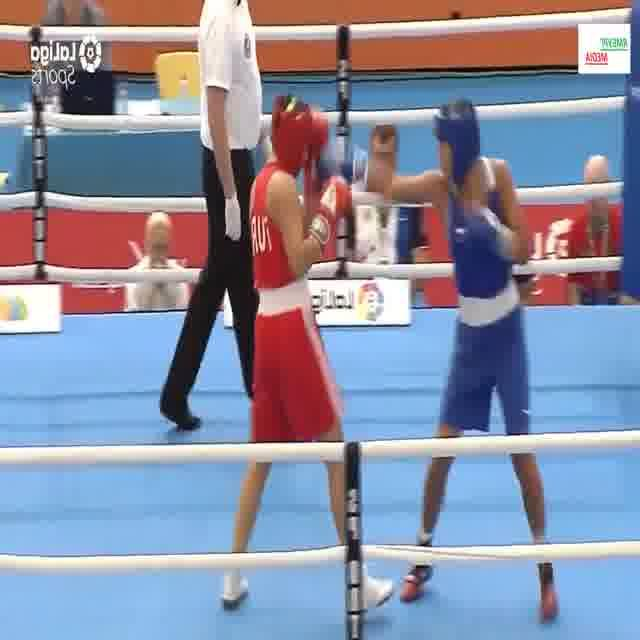blue-player: (312, 98, 562, 628)
red-player: (217, 92, 397, 616)
referee: (156, 0, 294, 438)
